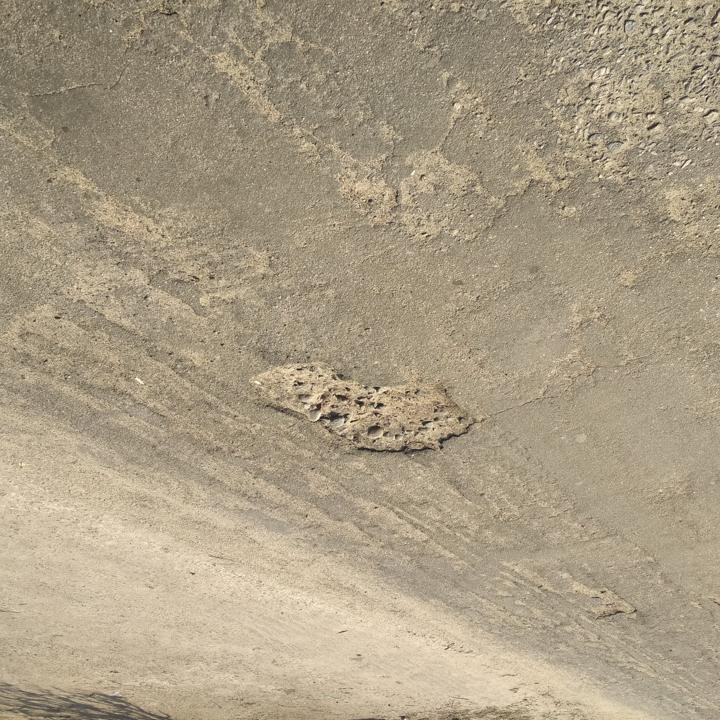pothole: (245, 361, 479, 458), (574, 580, 642, 625)
